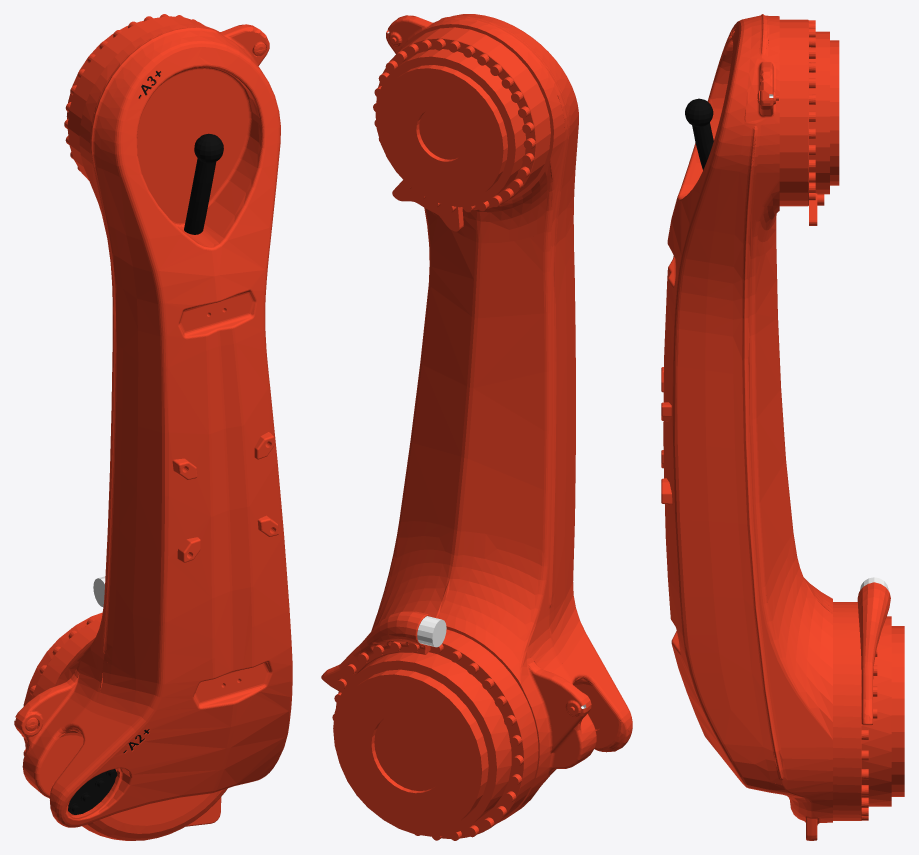
3 renders of one model, left to right at view 1: azimuth 30°, elevation 25°; view 2: azimuth 150°, elevation 25°; view 3: azimuth 270°, elevation 25°, orthographic. The views are drawn at different scales.
Parts seen in each view (by area): view 1: link_2; view 2: link_2; view 3: link_2.
Part boxes in pixels (bbox=[...]): link_2: bbox=[14, 14, 292, 840]; link_2: bbox=[321, 14, 632, 840]; link_2: bbox=[661, 14, 904, 840].
Size of the model in its own units: 0.4841 by 0.424 by 1.52.
